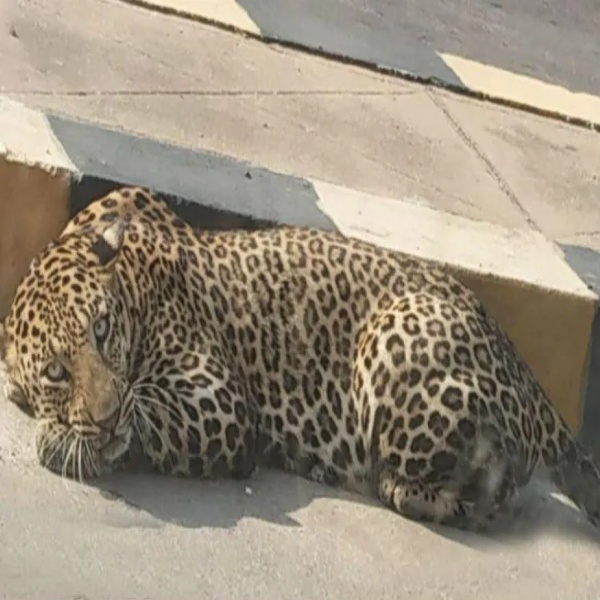Leopard: (5, 184, 600, 534)
